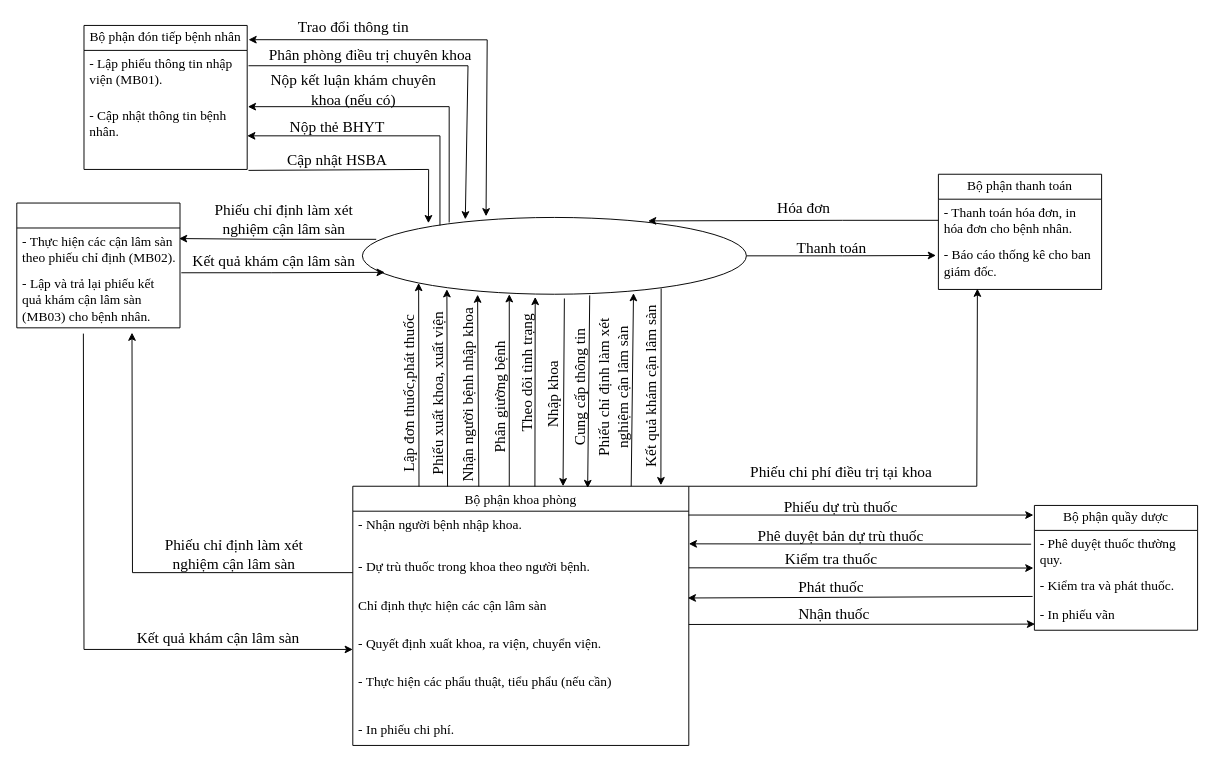
Image size: 1214x764. Some labels were removed from this diagram. The shapes that lost their labels are listed below. From the top down, each one's box as (x1, y1, x2, y2) in pixels, then its label:
(16, 202, 180, 328): Bộ phận khám cận lâm sàn
(361, 216, 746, 294): Bệnh nhân
